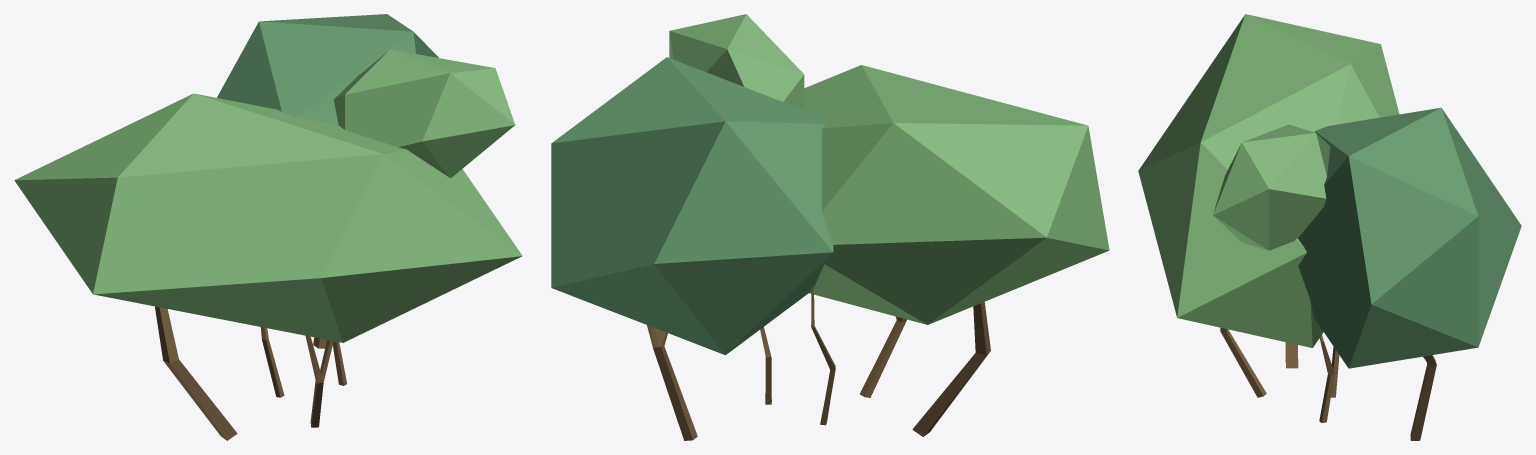
The model's file is bush_2.fbx.
3 renders of one model, left to right at view 1: azimuth 30°, elevation 25°; view 2: azimuth 150°, elevation 25°; view 3: azimuth 270°, elevation 25°, orthographic. The views are drawn at different scales.
Parts seen in each view (by area): view 1: shrub, shrub4, shrub3, bush_trunk, bush_trunk5, bush_trunk8; view 2: shrub3, shrub, shrub4, bush_trunk, bush_trunk3, bush_trunk5, bush_trunk8; view 3: shrub3, shrub, shrub4, bush_trunk3, bush_trunk5, bush_trunk2.
Boxes of the visible parts, <box> form: shrub: <box>14,93,522,342</box>; shrub4: <box>333,49,515,178</box>; shrub3: <box>217,14,438,125</box>; bush_trunk: <box>155,306,237,440</box>; bush_trunk5: <box>305,335,333,427</box>; bush_trunk8: <box>260,327,284,397</box>; shrub3: <box>551,57,833,355</box>; shrub: <box>804,65,1109,324</box>; shrub4: <box>669,14,804,109</box>; bush_trunk: <box>912,302,990,436</box>; bush_trunk3: <box>647,325,697,440</box>; bush_trunk5: <box>860,316,906,397</box>; bush_trunk8: <box>811,286,835,425</box>; shrub3: <box>1298,107,1521,368</box>; shrub: <box>1138,14,1399,347</box>; shrub4: <box>1213,124,1330,250</box>; bush_trunk3: <box>1410,355,1436,440</box>; bush_trunk5: <box>1220,327,1266,397</box>; bush_trunk2: <box>1319,335,1334,422</box>.
Size of the model in its own units: 134 by 91.16 by 99.81.
